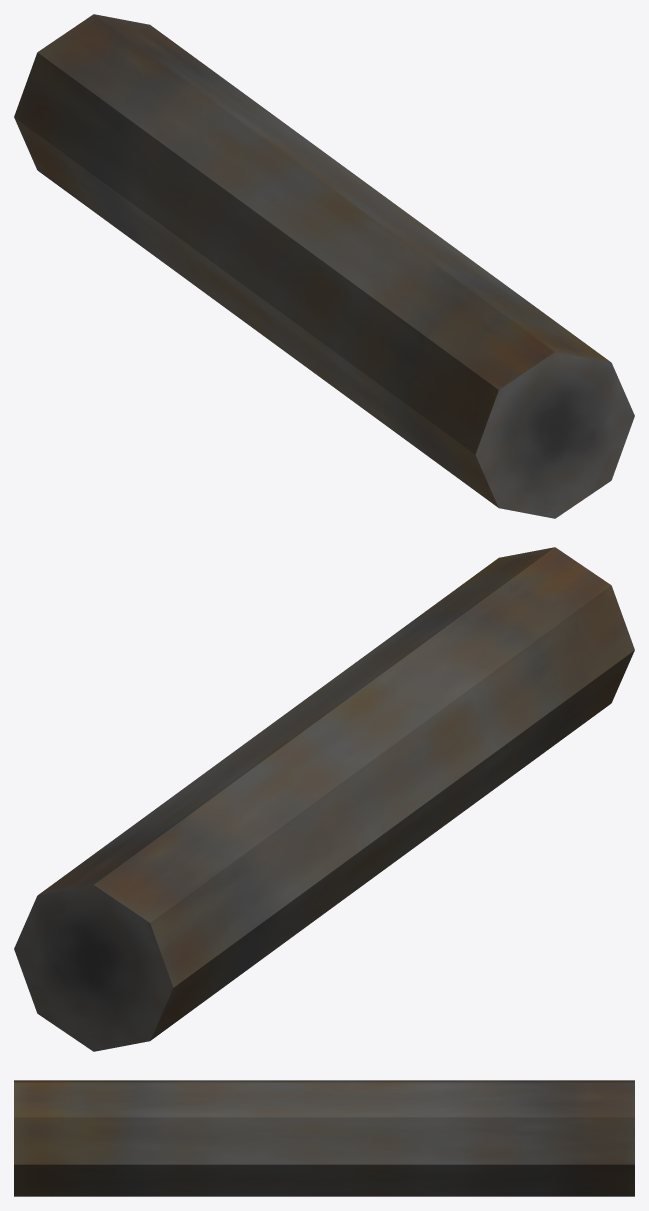
Rendered from pipe_grime.fbx.
The picture shows the model from 3 angles, top to bottom: view 1: azimuth 30°, elevation 25°; view 2: azimuth 150°, elevation 25°; view 3: azimuth 270°, elevation 25°; orthographic projection. The views are drawn at different scales.
Parts seen in each view (by area): view 1: pipe_grime; view 2: pipe_grime; view 3: pipe_grime.
Boxes of the visible parts, bbox=[...] form: pipe_grime: bbox=[14, 14, 634, 518]; pipe_grime: bbox=[14, 547, 634, 1051]; pipe_grime: bbox=[14, 1080, 634, 1196].
Size of the model in its own units: 0.0998 by 0.0998 by 0.5.
1 material, 1 textured.
